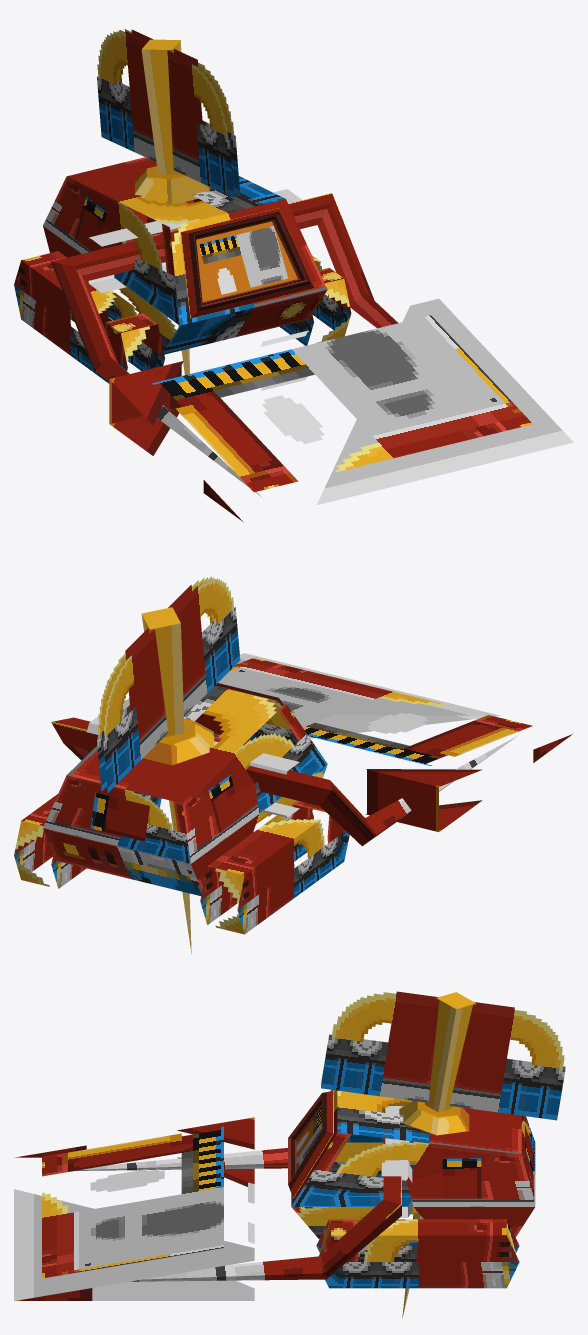
Rendered from popoi.obj.
The picture shows the model from 3 angles, top to bottom: view 1: azimuth 30°, elevation 25°; view 2: azimuth 150°, elevation 25°; view 3: azimuth 270°, elevation 25°; orthographic projection. The views are drawn at different scales.
Parts seen in each view (by area): view 1: skl_root, arm, part; view 2: skl_root, arm, part; view 3: skl_root, arm, part.
Boxes of the visible parts, x1,y1,x2,y2 form: skl_root: (14,30,573,496); arm: (51,194,573,522); part: (97,29,240,374); skl_root: (14,576,518,946); arm: (56,653,572,846); part: (97,578,240,953); skl_root: (14,994,556,1316); arm: (14,1117,401,1300); part: (321,991,565,1317).
Size of the model in its own units: 23.18 by 25.29 by 38.23.
Materials: 1 (1 with a texture image).
